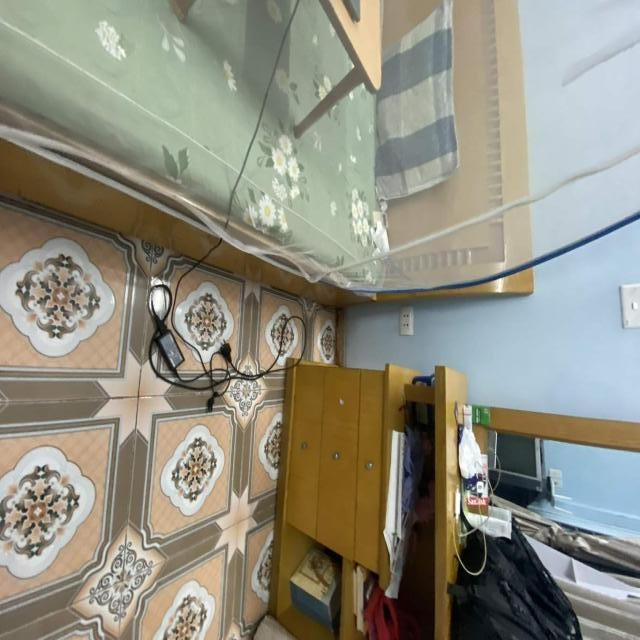outlet: (399, 306, 414, 336)
